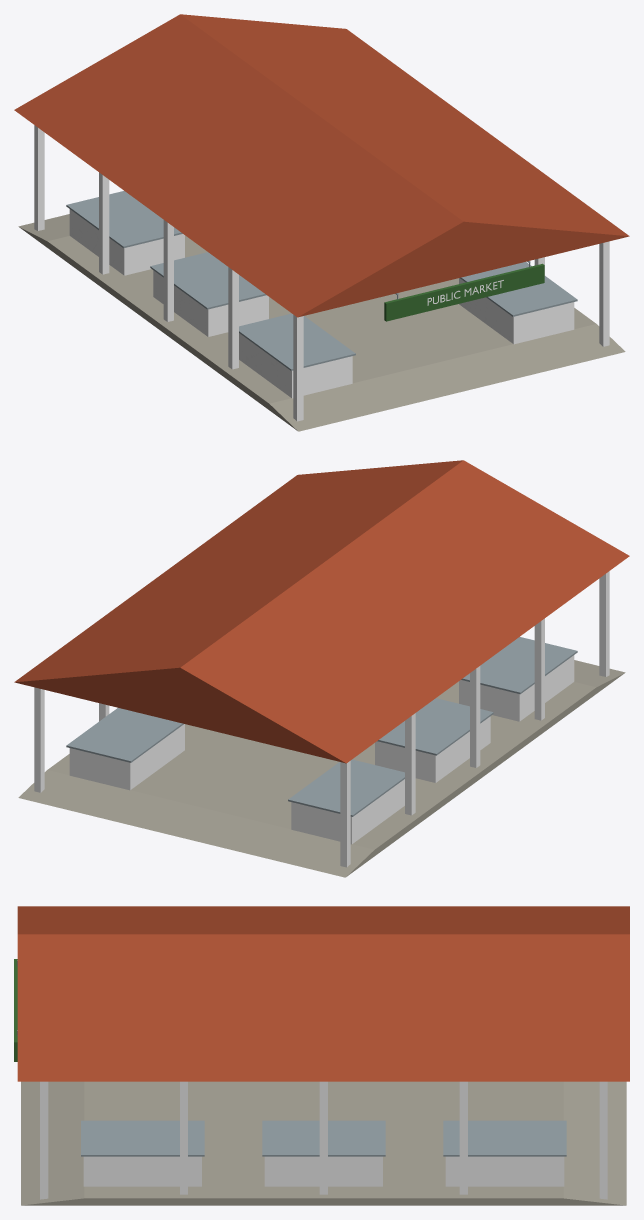
File: public_market.glb
3 renders of one model, top to bottom at view 1: azimuth 30°, elevation 25°; view 2: azimuth 150°, elevation 25°; view 3: azimuth 270°, elevation 25°, orthographic. The views are drawn at different scales.
Visible parts, largest first — view 1: public_market; view 2: public_market; view 3: public_market.
Boxes of the visible parts, x1=… form: public_market: x1=14, y1=14, x2=629, y2=431; public_market: x1=14, y1=460, x2=629, y2=877; public_market: x1=14, y1=906, x2=629, y2=1205.
Bounding box in the file's own units: 12.6 × 6.2 × 18.71.
